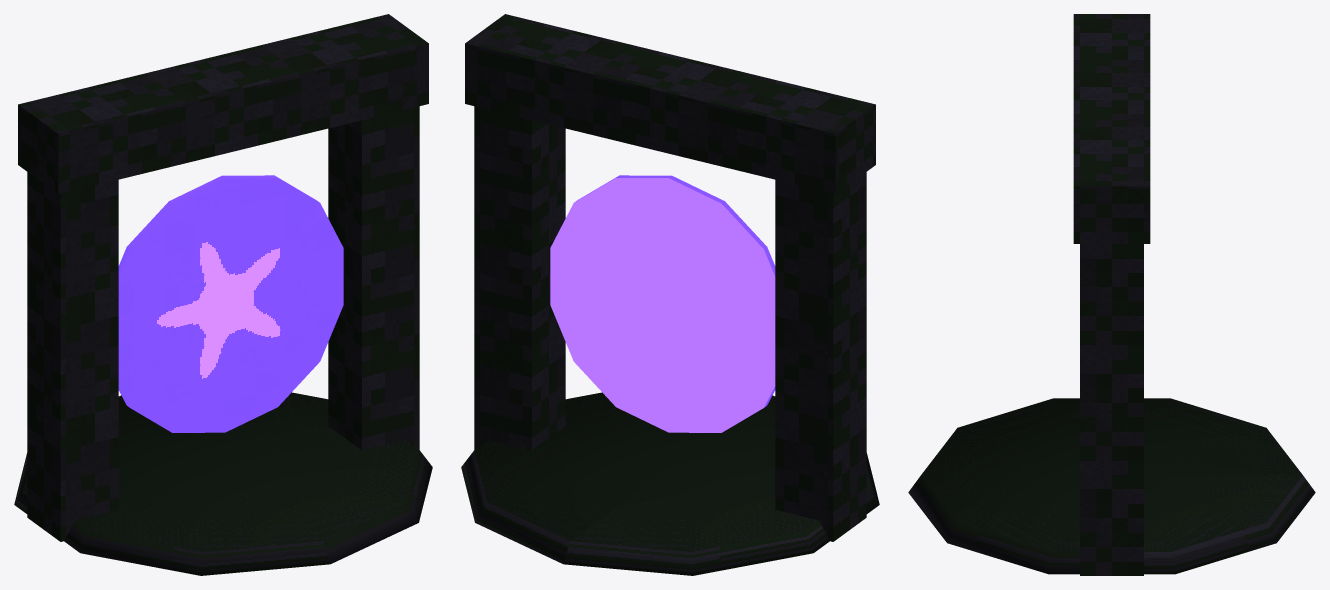
File: d_portal.glb
The picture shows the model from 3 angles, left to right: view 1: azimuth 30°, elevation 25°; view 2: azimuth 150°, elevation 25°; view 3: azimuth 270°, elevation 25°; orthographic projection. The views are drawn at different scales.
Parts seen in each view (by area): view 1: gate, step, top, post-1, post1; view 2: gate, step, top, post-1, post1; view 3: step, post1, top.
Part boxes in pixels (x1,y1,x2,y2): gate: [118, 175, 343, 432]; step: [14, 392, 432, 575]; top: [18, 14, 428, 194]; post-1: [27, 172, 118, 541]; post1: [328, 106, 419, 450]; gate: [550, 175, 775, 432]; step: [461, 392, 879, 575]; top: [465, 14, 875, 194]; post-1: [775, 172, 866, 541]; post1: [474, 106, 565, 450]; step: [908, 398, 1315, 574]; post1: [1080, 244, 1143, 575]; top: [1073, 14, 1150, 243].
Size of the model in its own units: 6.4 by 6.8 by 6.4.
2 materials, 2 textured.
